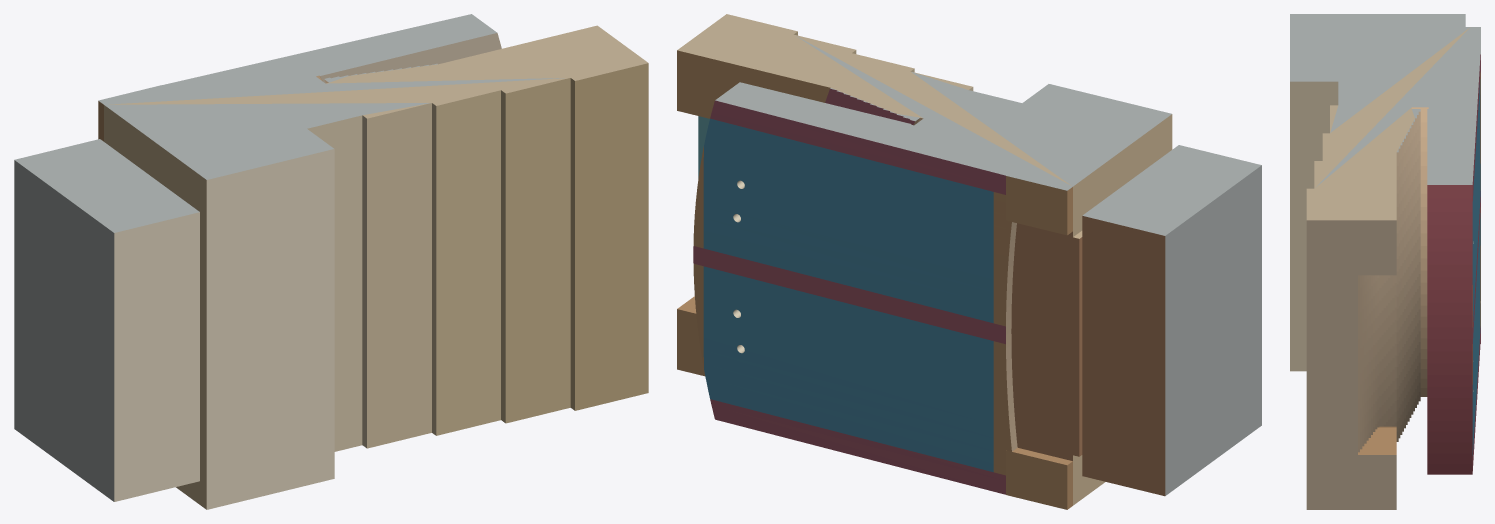
Rendered from aula-magna.obj.
The picture shows the model from 3 angles, left to right: view 1: azimuth 30°, elevation 25°; view 2: azimuth 150°, elevation 25°; view 3: azimuth 270°, elevation 25°; orthographic projection. The views are drawn at different scales.
Visible parts, largest first — view 1: cielo, muros, cielo_5, cielo_3, cielo_4, cielo_2, laterales_altos, cielo_1, embocadura, bajo_balcon; view 2: butacas_platea, muros, escenario, pasillos_alfombra, madera_expuesta, laterales_altos, embocadura, frente_balcon; view 3: muros, fondo_alto, cortinas_fondo, frente_balcon, laterales_altos, cielo_1, antepecho, butacas_platea, madera_expuesta, pasillos_alfombra.
Boxes of the visible parts, x1,y1,x2,y2 form: cielo: (114,149,334,509); muros: (14,14,564,501); cielo_5: (575,63,648,410); cielo_3: (436,90,505,435); cielo_4: (505,78,574,423); cielo_2: (367,103,436,448); laterales_altos: (109,25,648,118); cielo_1: (307,115,366,451); embocadura: (104,105,206,509); bajo_balcon: (320,33,501,83); butacas_platea: (703,118,993,472); muros: (715,35,1261,495); escenario: (1011,216,1165,496); pasillos_alfombra: (693,88,1005,494); madera_expuesta: (677,50,1072,509); laterales_altos: (677,14,1071,185); embocadura: (1073,114,1172,505); frente_balcon: (1006,222,1017,451); muros: (1290,14,1480,187); fondo_alto: (1306,220,1396,509); cortinas_fondo: (1427,185,1472,474); frente_balcon: (1358,111,1420,452); laterales_altos: (1306,27,1470,220); cielo_1: (1290,81,1338,371); antepecho: (1411,107,1428,396); butacas_platea: (1472,79,1480,455); madera_expuesta: (1358,72,1480,454); pasillos_alfombra: (1472,54,1480,470).
Size of the model in its own units: 40.25 by 23.33 by 13.92.
